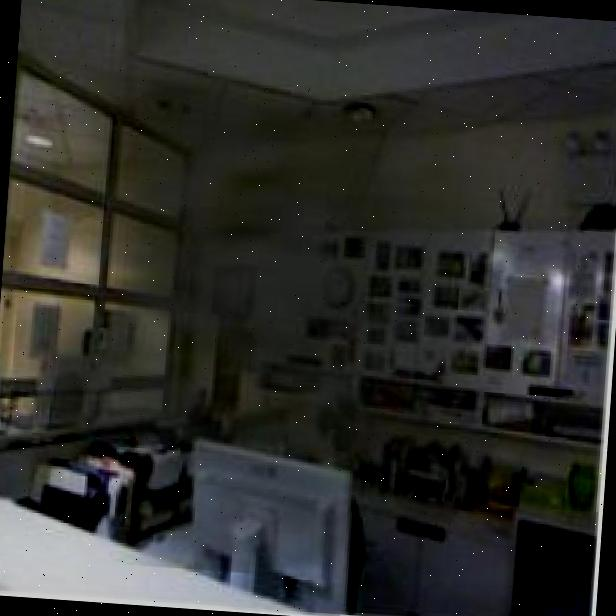smoke: (0, 37, 597, 595)
